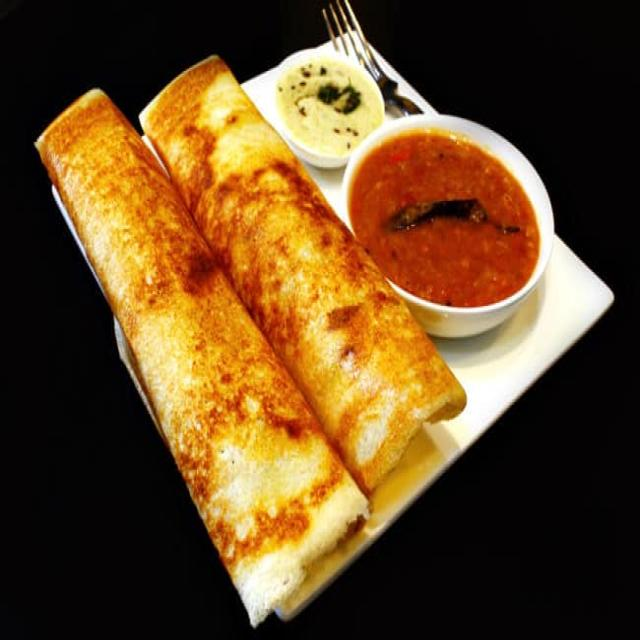DOSA: (36, 80, 370, 627), (136, 55, 458, 497)
